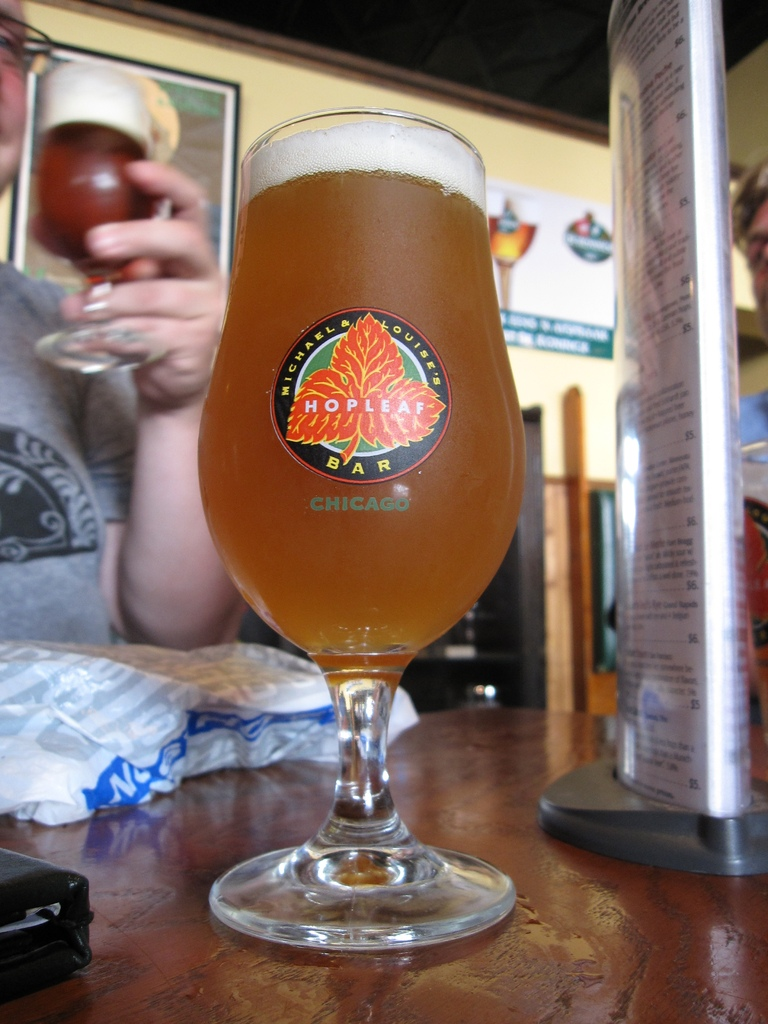Beer: (181, 118, 529, 688), (37, 74, 168, 296)
